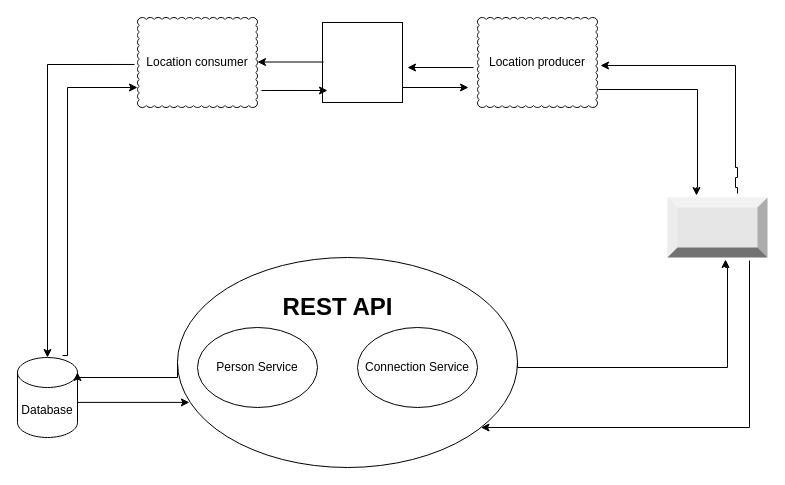
The diagram is 785 pixels wide and 485 high, and some of its shapes have lost their labels. Here are the shapes that lost their labels. From the top down, the centre of each, then its label:
At pixel 362 62: "Kafka".
At pixel 717 227: "Front end".
